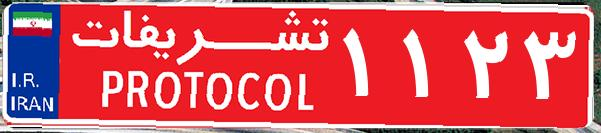1: (340, 20, 400, 115), (400, 20, 460, 115)
2: (460, 20, 520, 115)
3: (520, 20, 580, 115)
تشریفات: (60, 8, 340, 125)
